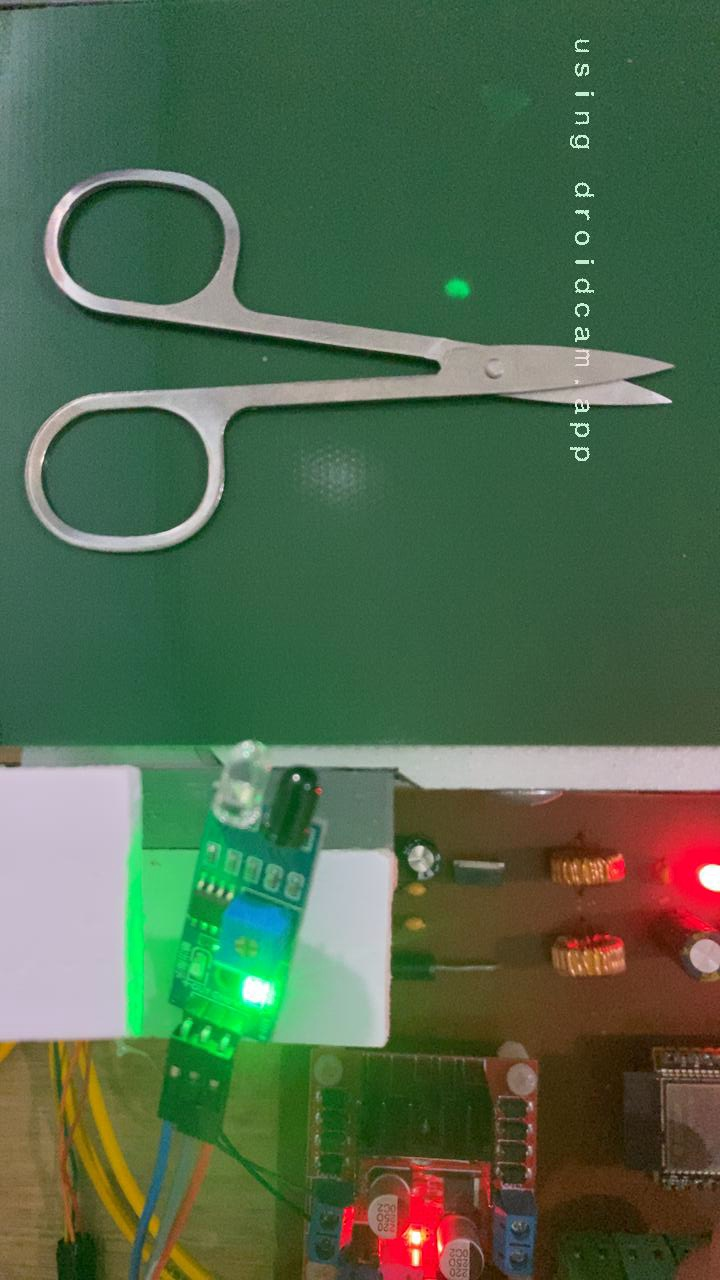scissor: (17, 162, 681, 560)
